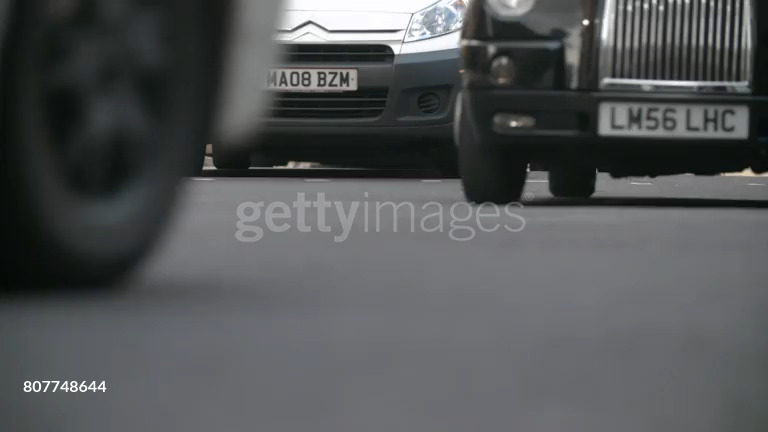car_number: (598, 102, 749, 139), (267, 68, 357, 91)
